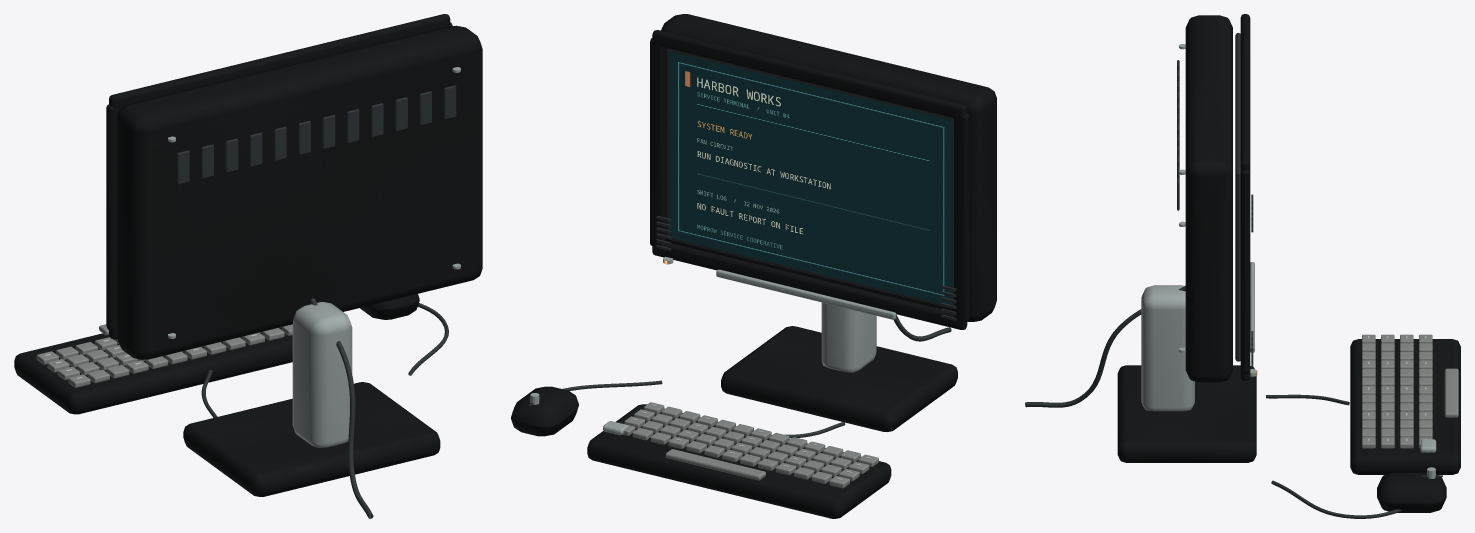
Rendered from A157_harbor_service_terminal.glb.
3 views of the same model, side by side, from view 1: azimuth 30°, elevation 25°; view 2: azimuth 150°, elevation 25°; view 3: azimuth 270°, elevation 25° (orthographic). The views are drawn at different scales.
Visible parts, largest first — view 1: Static SL terminal stippled charcoal.001, Static SL terminal brushed aluminum.001, Static SL terminal braided cable.001, Static SL terminal warm grey keycap.001; view 2: Static SL terminal stippled charcoal.001, Static SL terminal original standby display.001, Static SL terminal warm grey keycap.001, Static SL terminal brushed aluminum.001, Static SL terminal braided cable.001; view 3: Static SL terminal stippled charcoal.001, Static SL terminal warm grey keycap.001, Static SL terminal brushed aluminum.001, Static SL terminal braided cable.001.
Boxes of the visible parts, <box> form: Static SL terminal stippled charcoal.001: <box>14,14,482,496</box>; Static SL terminal brushed aluminum.001: <box>168,67,460,447</box>; Static SL terminal braided cable.001: <box>177,85,456,518</box>; Static SL terminal warm grey keycap.001: <box>36,324,292,387</box>; Static SL terminal stippled charcoal.001: <box>511,14,996,518</box>; Static SL terminal original standby display.001: <box>670,51,952,304</box>; Static SL terminal warm grey keycap.001: <box>623,402,878,488</box>; Static SL terminal brushed aluminum.001: <box>530,256,896,435</box>; Static SL terminal braided cable.001: <box>528,48,956,438</box>; Static SL terminal stippled charcoal.001: <box>1117,14,1460,512</box>; Static SL terminal warm grey keycap.001: <box>1362,334,1458,448</box>; Static SL terminal brushed aluminum.001: <box>1141,44,1436,478</box>; Static SL terminal braided cable.001: <box>1025,33,1442,518</box>.
Size of the model in its own units: 0.665 by 0.5885 by 0.6887.
7 materials, 2 textured.
